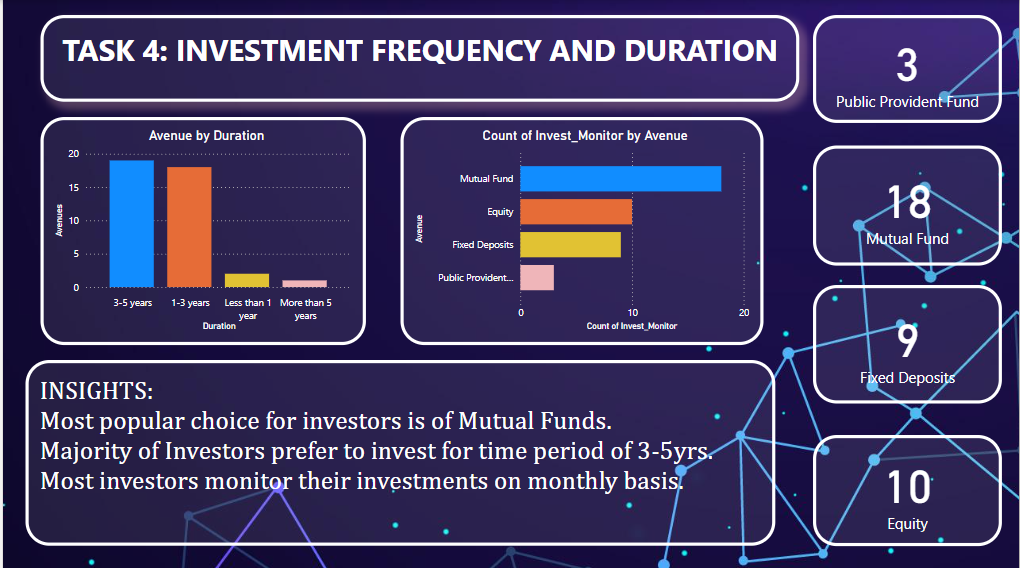

Layout of this report page (visuals, bound fields, positions):
{"tool":"powerbi","page":{"name":"Page 1","canvas":[1280,720],"ordinal":0},"visuals":[{"type":"columnChart","title":"Age by Savings objectives","fields":{"Y":["CountNonNull(Data_set 22.age)"],"Category":["Data_set 22.What are your savings objectives?"]},"box":[15.1,62.4,342,279.7],"z":0},{"type":"clusteredBarChart","title":"Avenues by Duration","fields":{"Category":["Data_set 22.Duration"],"Y":["CountNonNull(Data_set 22.Avenue)"]},"box":[376.1,372.3,342,279.7],"z":1000},{"type":"card","fields":{"Values":["Sum(Data_set 22.fixed Deposits)"]},"box":[744.6,62.4,230.6,139.8],"z":2000},{"type":"card","fields":{"Values":["Sum(Data_set 22.mutual Fund)"]},"box":[740.8,217.3,234.3,124.7],"z":3000},{"type":"card","fields":{"Values":["Sum(Data_set 22.public Provident Fund)"]},"box":[744.6,525.4,234.3,126.6],"z":4000},{"type":"card","fields":{"Values":["Sum(Data_set 22.equity)"]},"box":[744.6,372.3,234.3,139.8],"z":5000},{"type":"donutChart","title":"Reason Mutual by Invest Monitor","fields":{"Category":["Data_set 22.Invest_Monitor"],"Y":["CountNonNull(Data_set 22.Reason_Mutual)"]},"box":[15.1,372.3,342,279.7],"z":6000},{"type":"donutChart","title":"Reason Mutual by Invest Monitor","fields":{"Category":["Data_set 22.Source"],"Y":["CountNonNull(Data_set 22.Avenue)"]},"box":[376.1,62.4,342,279.7],"z":7000},{"type":"slicer","fields":{"Values":["Data_set 22.Reason_Mutual"]},"box":[1012.9,56.7,232.4,595.3],"z":8000}]}

Visuals, with their boxes in screenshot pixels (x1, y1, x2, y2), scaled from the page's 1280x720 canvas onto the 1020x568 screenshot:
"Age by Savings objectives" columnChart: left=12, top=49, right=285, bottom=270
"Avenues by Duration" clusteredBarChart: left=300, top=294, right=572, bottom=514
card - Sum(Data_set 22.fixed Deposits): left=593, top=49, right=777, bottom=160
card - Sum(Data_set 22.mutual Fund): left=590, top=171, right=777, bottom=270
card - Sum(Data_set 22.public Provident Fund): left=593, top=414, right=780, bottom=514
card - Sum(Data_set 22.equity): left=593, top=294, right=780, bottom=404
"Reason Mutual by Invest Monitor" donutChart: left=12, top=294, right=285, bottom=514
"Reason Mutual by Invest Monitor" donutChart: left=300, top=49, right=572, bottom=270
slicer - Data_set 22.Reason_Mutual: left=807, top=45, right=992, bottom=514
